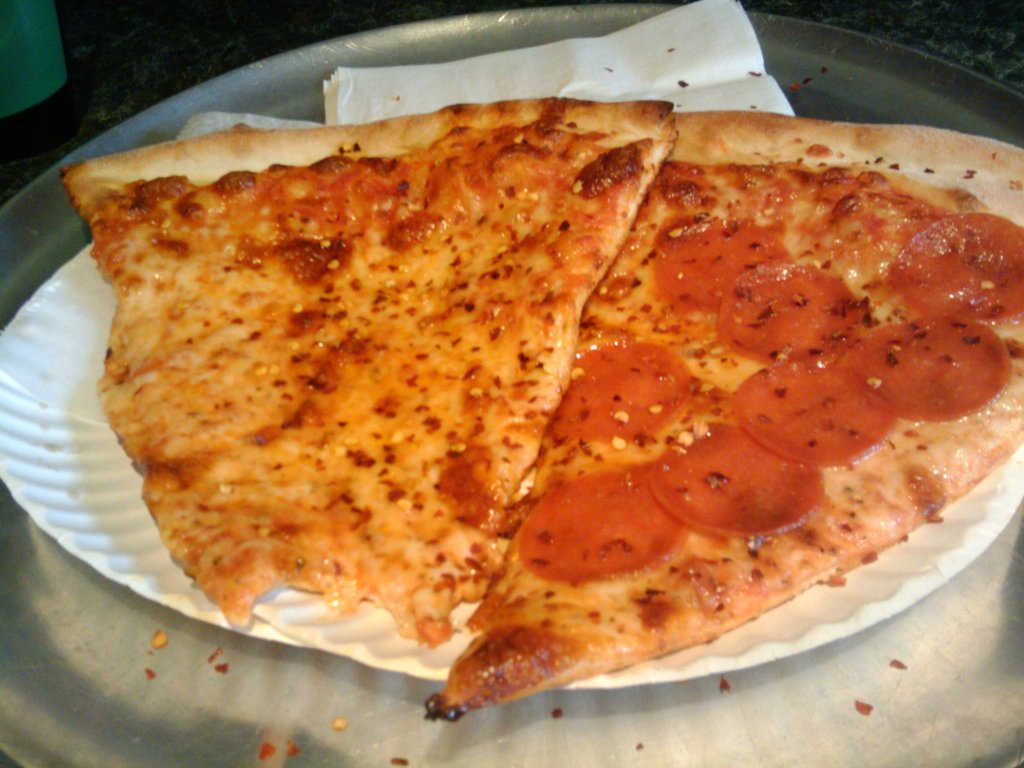Pizza: (432, 90, 1023, 728)
